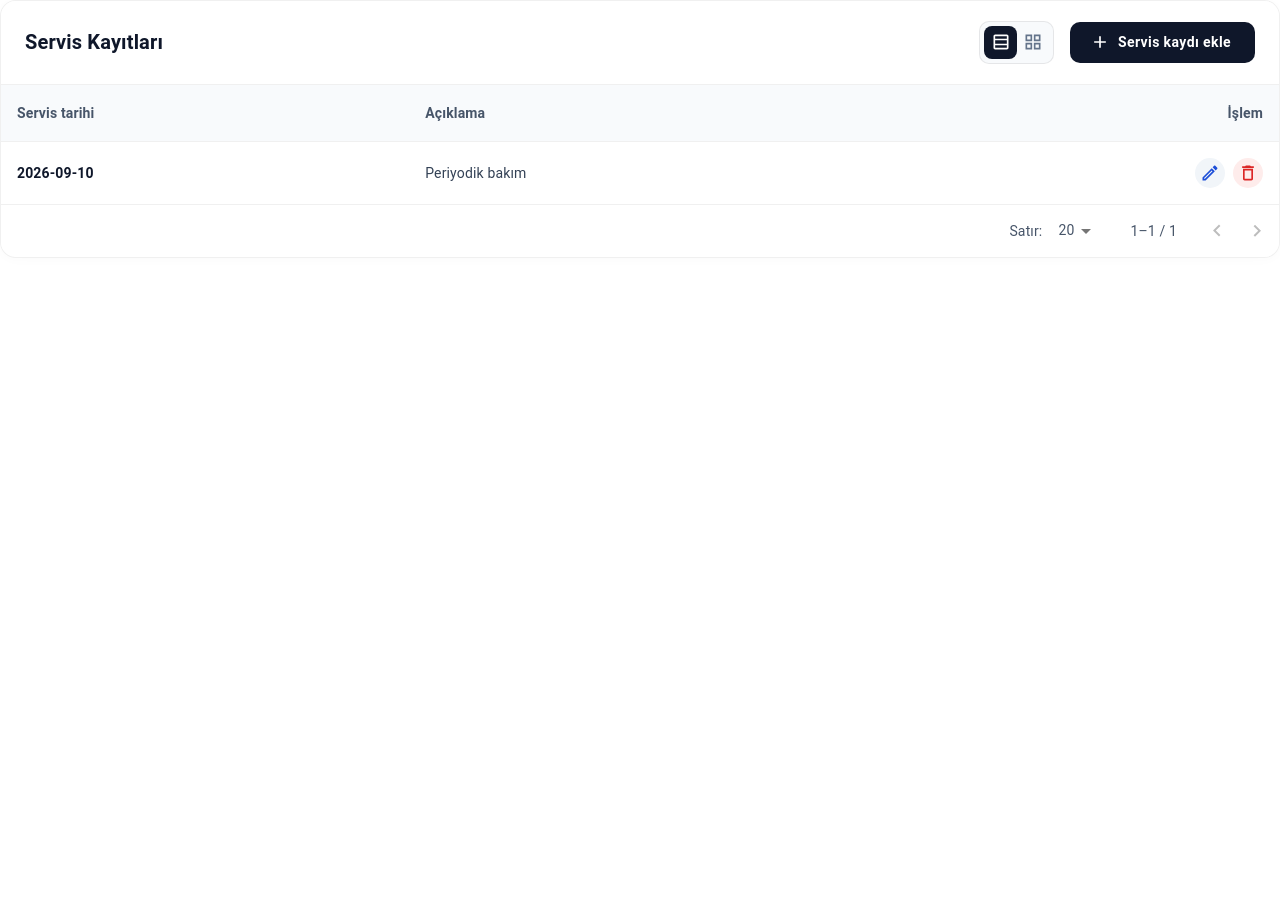
Test: ServiceSection › 404 üst kayıt bulunamadı hatasını kullanıcıya gösterir
Click the button named "Sil" at (1248, 173), box [1233,158,1263,188]
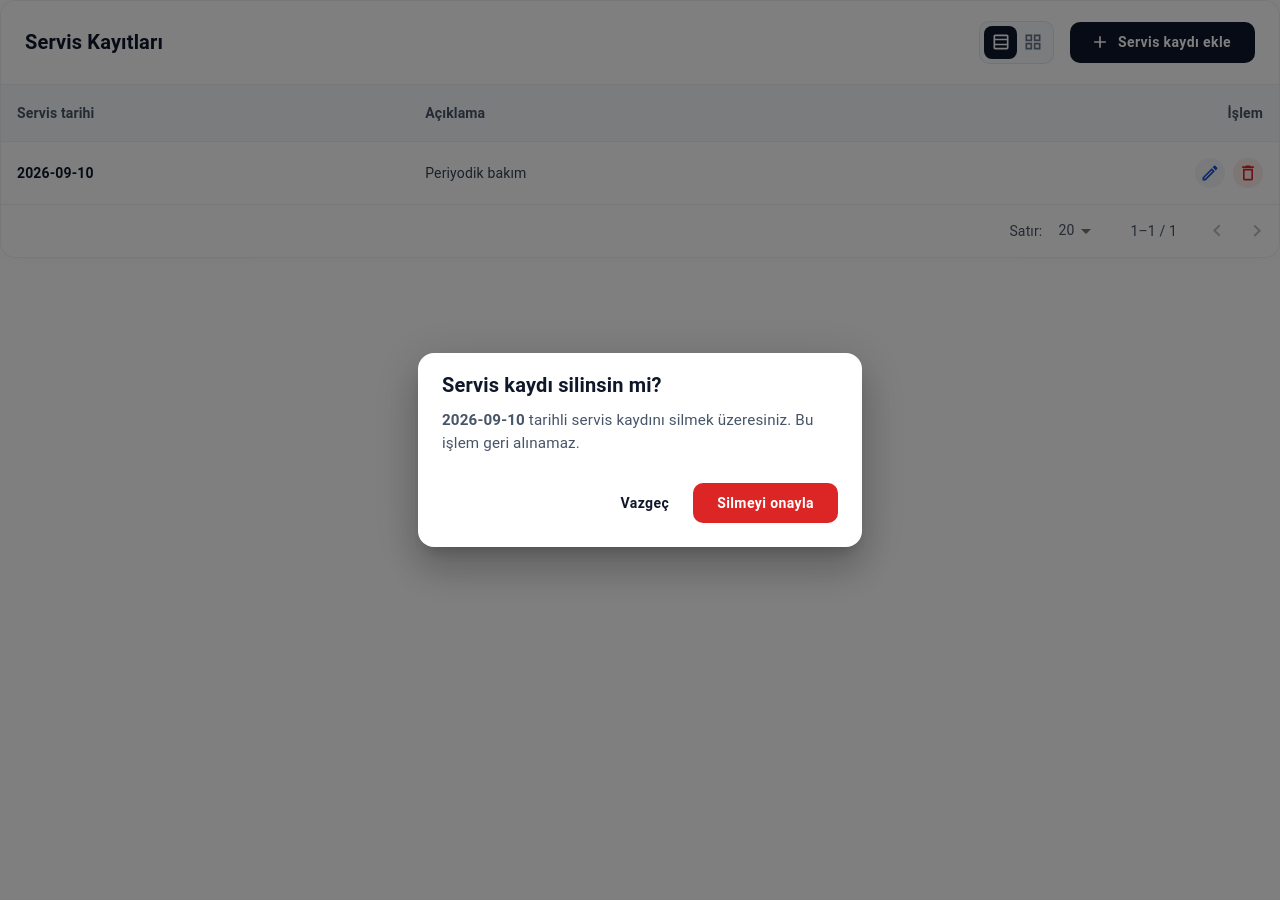
Click the button "Silmeyi onayla" at (766, 503), box [693,482,838,523]
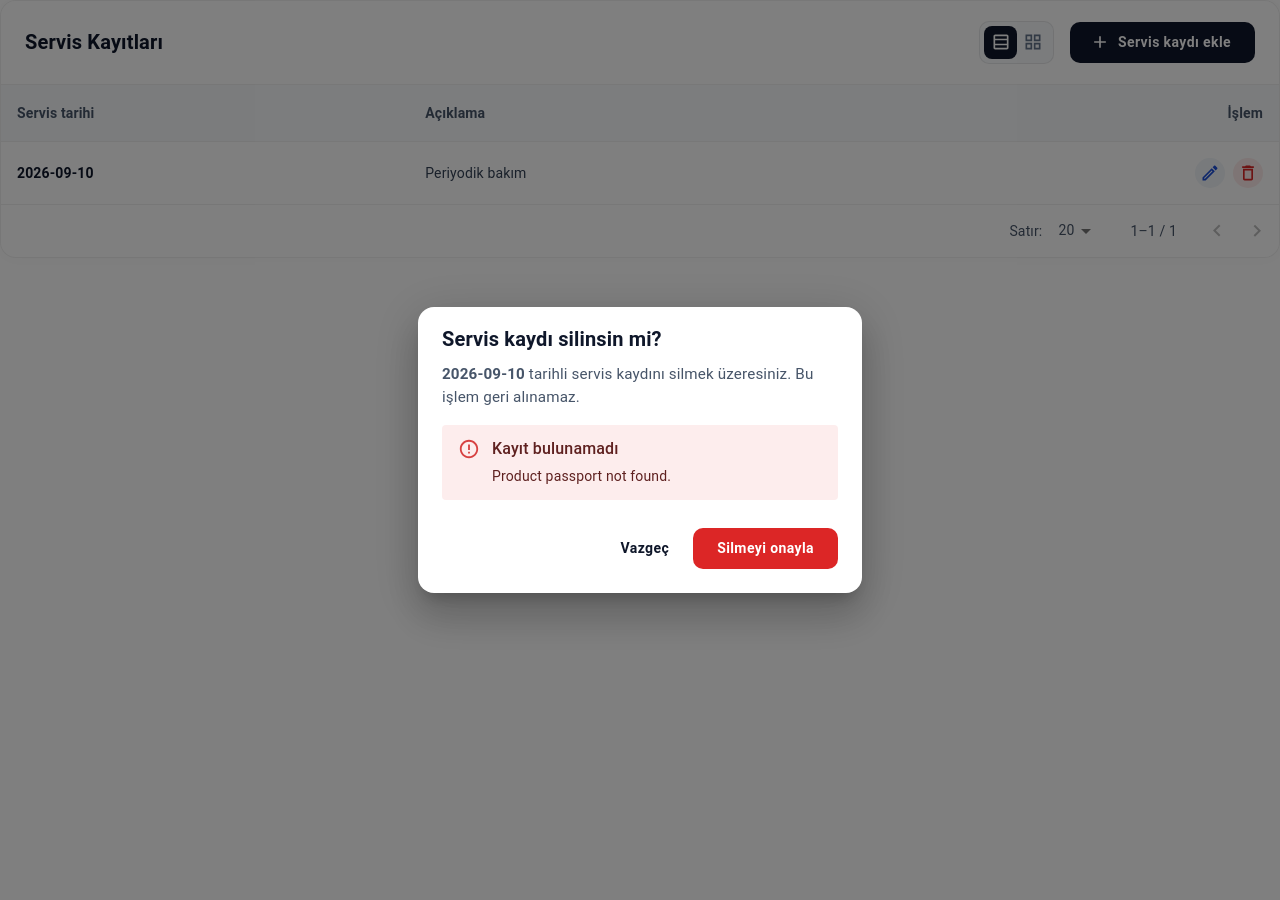
expect the heading "Servis kaydı silinsin mi?" is shown: met, box [442,327,662,351]
expect the text "Kayıt bulunamadı" is shown: met, box [492,439,619,458]
expect the text "Kayıt bulunamadı Product passport not found." is shown: met, box [492,431,671,494]
